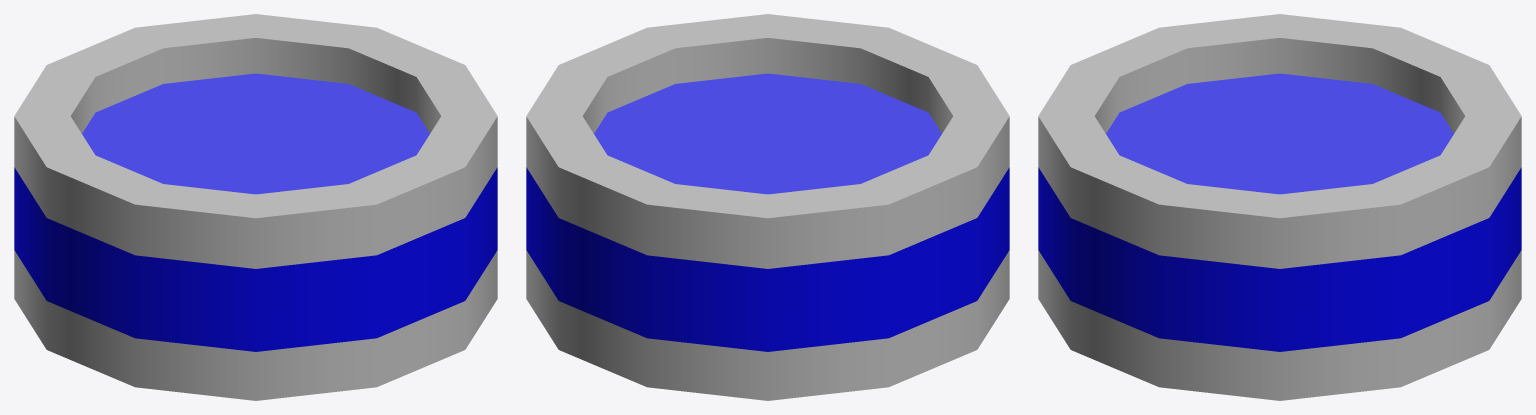
The model's file is PaintBucket.fbx.
3 views of the same model, side by side, from view 1: azimuth 30°, elevation 25°; view 2: azimuth 150°, elevation 25°; view 3: azimuth 270°, elevation 25° (orthographic).
Visible parts, largest first — view 1: Cylinder_2; view 2: Cylinder_2; view 3: Cylinder_2.
Boxes of the visible parts, left/top/right/bottom form: Cylinder_2: left=14, top=14, right=497, bottom=400; Cylinder_2: left=526, top=14, right=1009, bottom=400; Cylinder_2: left=1038, top=14, right=1521, bottom=400.
Bounding box in the file's own units: 250 × 104 × 250.
